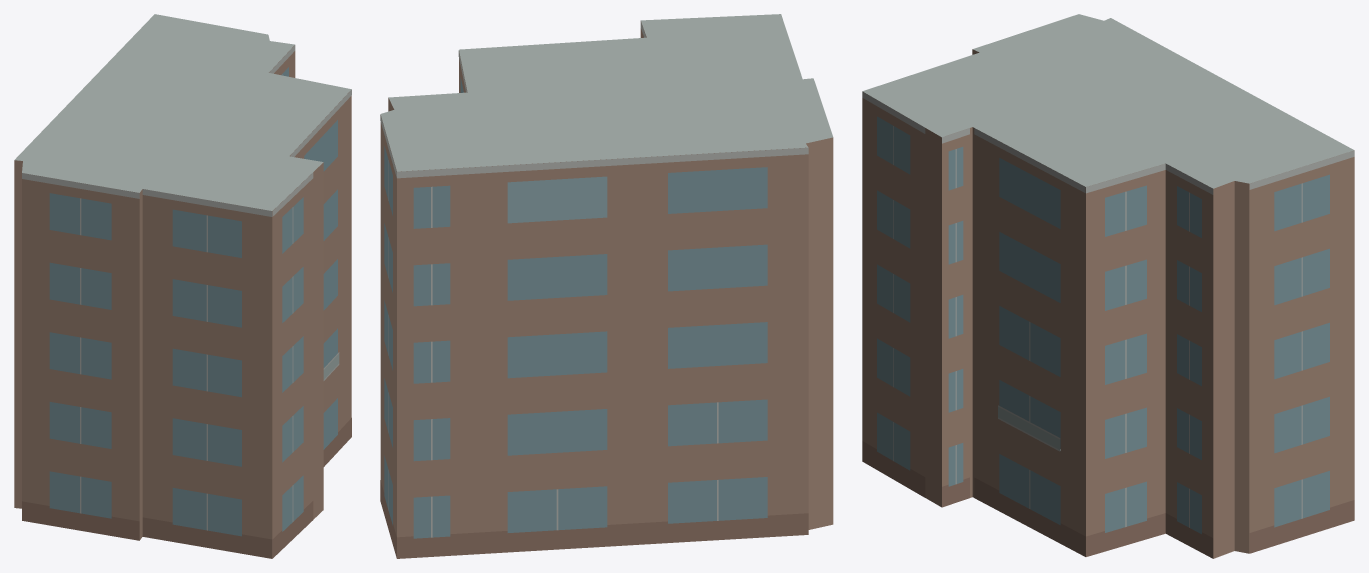
Rendered from survey-upis-32865704.glb.
The picture shows the model from 3 angles, left to right: view 1: azimuth 30°, elevation 25°; view 2: azimuth 150°, elevation 25°; view 3: azimuth 270°, elevation 25°; orthographic projection. The views are drawn at different scales.
Parts seen in each view (by area): view 1: survey-upis-32865704.tmp; view 2: survey-upis-32865704.tmp; view 3: survey-upis-32865704.tmp.
Boxes of the visible parts, x1,y1,x2,y2 form: survey-upis-32865704.tmp: [14, 14, 351, 558]; survey-upis-32865704.tmp: [380, 14, 833, 558]; survey-upis-32865704.tmp: [862, 14, 1354, 558].
Size of the model in its own units: 14.28 by 14.1 by 17.01.
